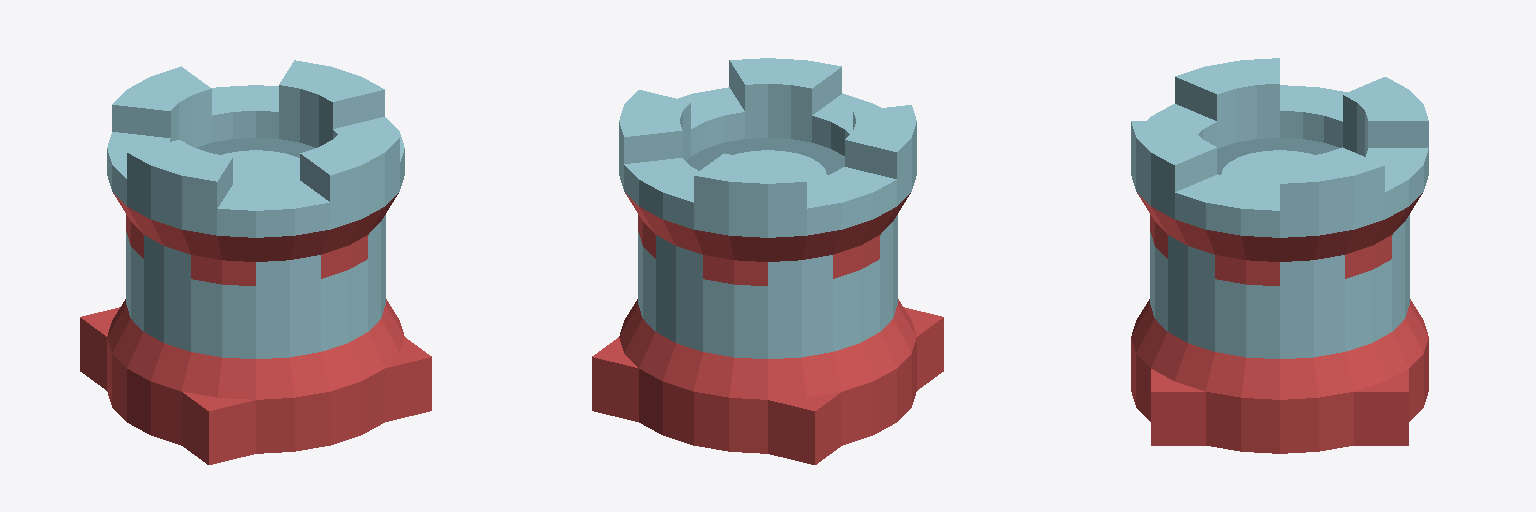
The picture shows the model from 3 angles: view 1: azimuth 30°, elevation 25°; view 2: azimuth 150°, elevation 25°; view 3: azimuth 270°, elevation 25°; orthographic projection.
Visible parts, largest first — view 1: towerRound_sampleE; view 2: towerRound_sampleE; view 3: towerRound_sampleE.
Boxes of the visible parts, <box> form: towerRound_sampleE: <box>80,60,431,464</box>; towerRound_sampleE: <box>592,58,943,464</box>; towerRound_sampleE: <box>1131,58,1428,453</box>.
Bounding box in the file's own units: 1 × 1 × 1.